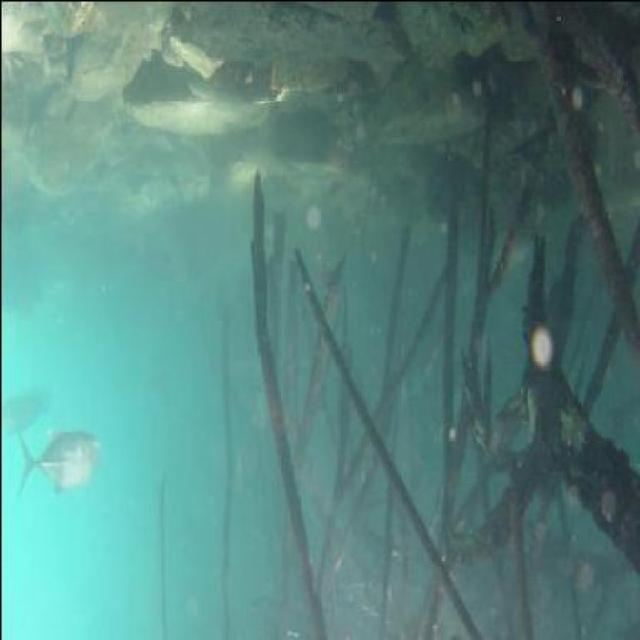Caranx_sexfasciatus_juvenile: (15, 417, 99, 505), (227, 440, 262, 502), (294, 426, 321, 496), (245, 369, 272, 437)
